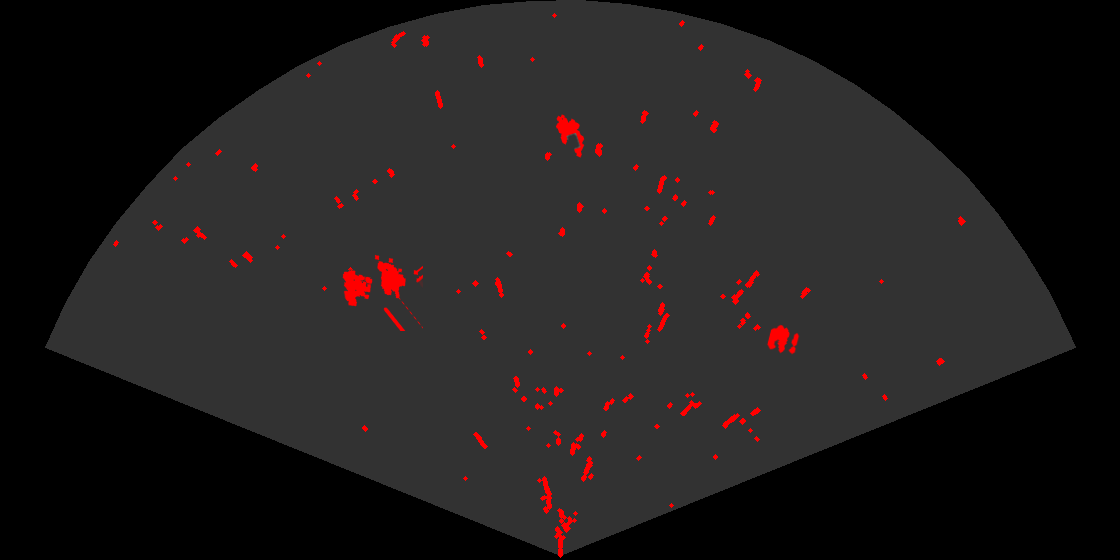AUV: (554, 113, 586, 159)
ball: (765, 323, 801, 356)
cage: (341, 253, 423, 331)
